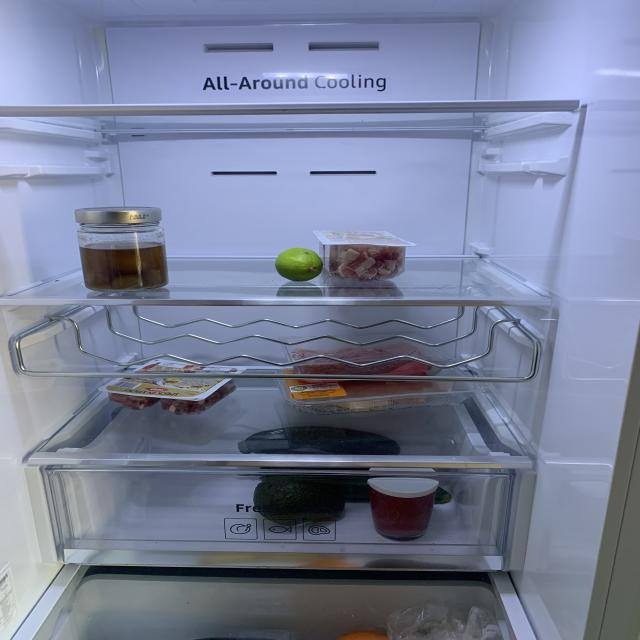avocado: (251, 478, 346, 523)
bacon: (319, 240, 406, 280), (162, 382, 234, 414), (109, 392, 160, 409)
chicken_breast: (330, 378, 452, 409)
courgettes: (264, 476, 454, 505), (238, 424, 402, 455)
ground_beef: (292, 346, 419, 380)
lime: (276, 248, 323, 282)
olives: (80, 240, 167, 292)
orange: (333, 628, 387, 640)
tomato_sauce: (371, 486, 435, 535)
